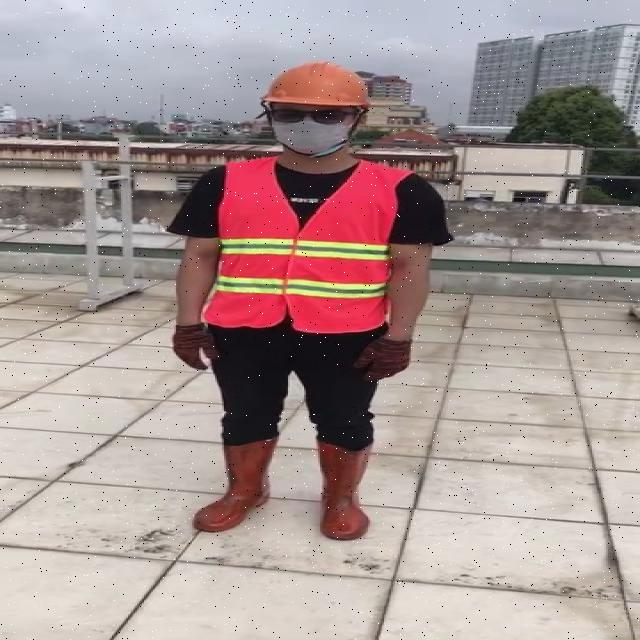Hard_hat: (257, 57, 379, 119)
Person: (163, 56, 463, 580)
Vest: (207, 155, 394, 334)
